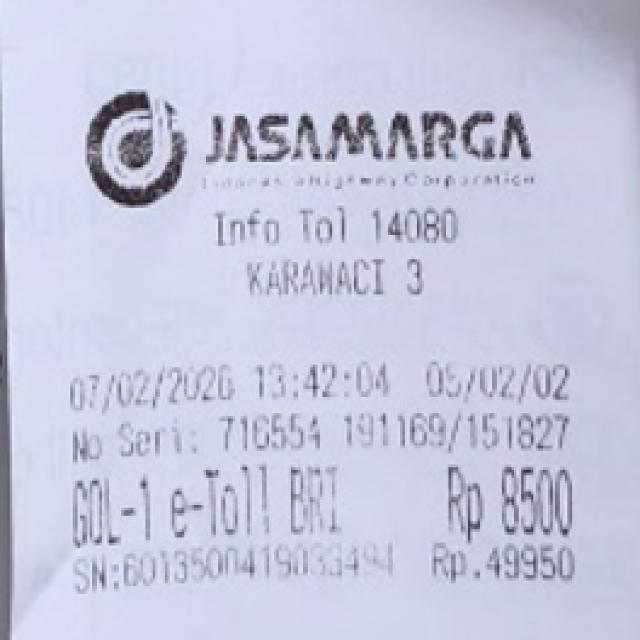date: (71, 370, 394, 410)
store: (198, 98, 536, 206)
total: (443, 467, 581, 537)
